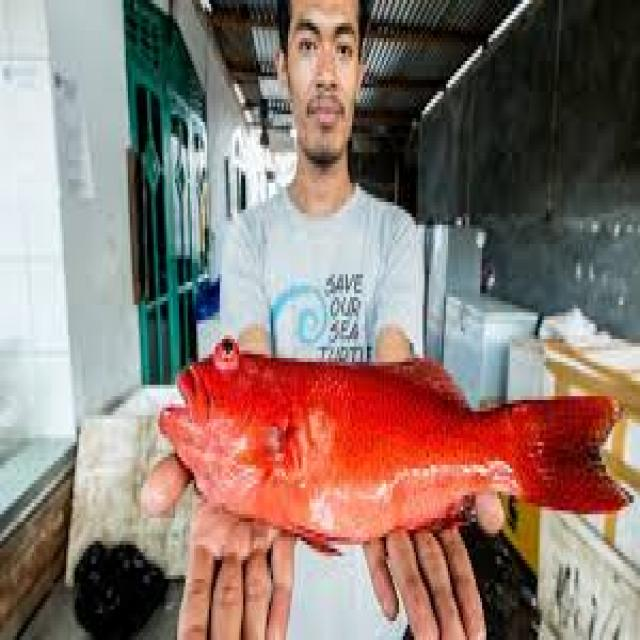northern-red-snapper: (150, 321, 640, 554)
